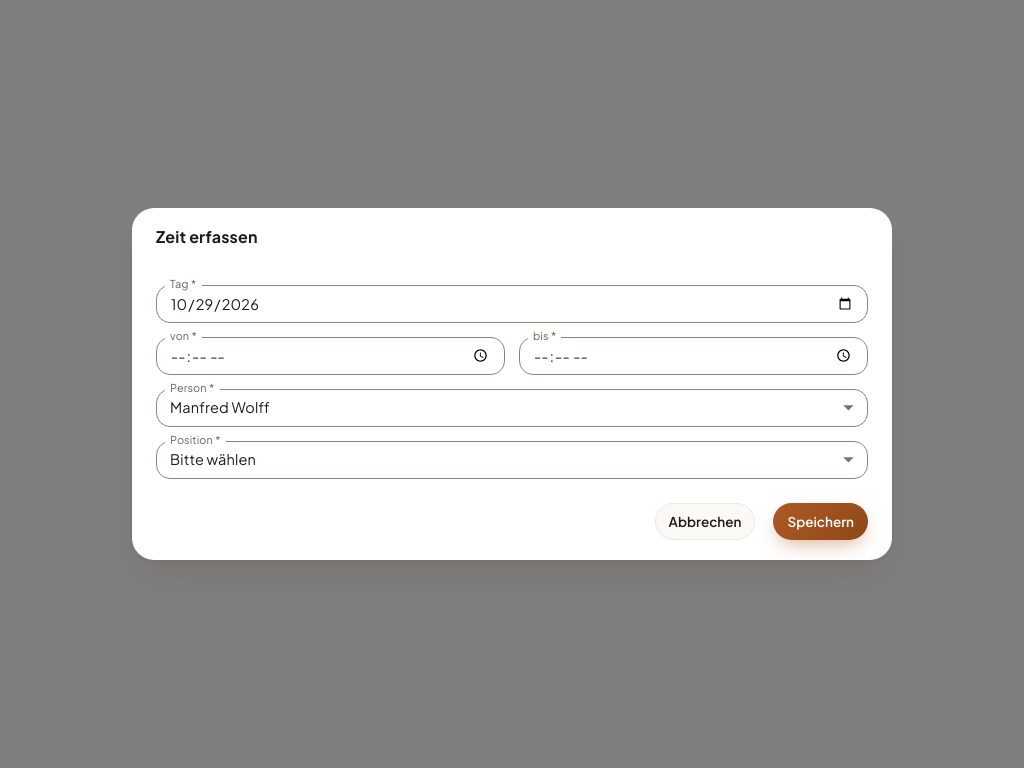
Test case: ZeiteintragMaske — die Dauer (Kriterium 2) › zeigt die Dauer erst, wenn beide Uhrzeiten gueltig sind
The image size is (1024, 768).
Step 1. Type "09:00" into the time field labelled "von *" → (330, 356), box [156, 337, 505, 375]
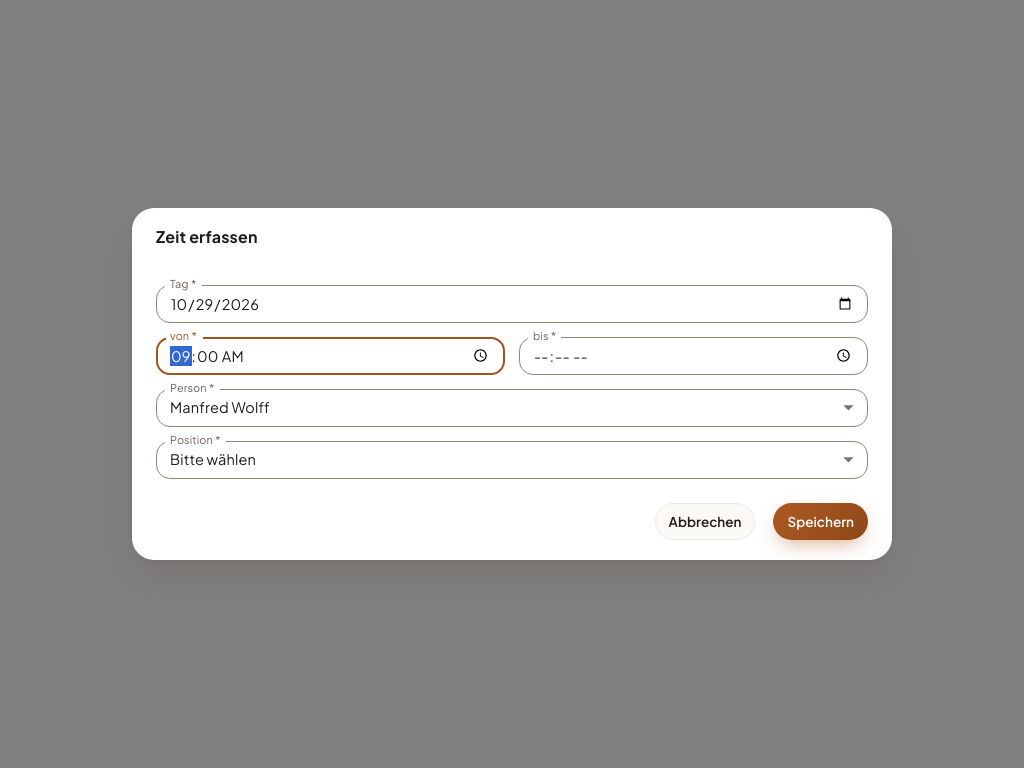
Step 2. Type "10:45" into the time field labelled "bis *" → (694, 356), box [519, 337, 868, 375]
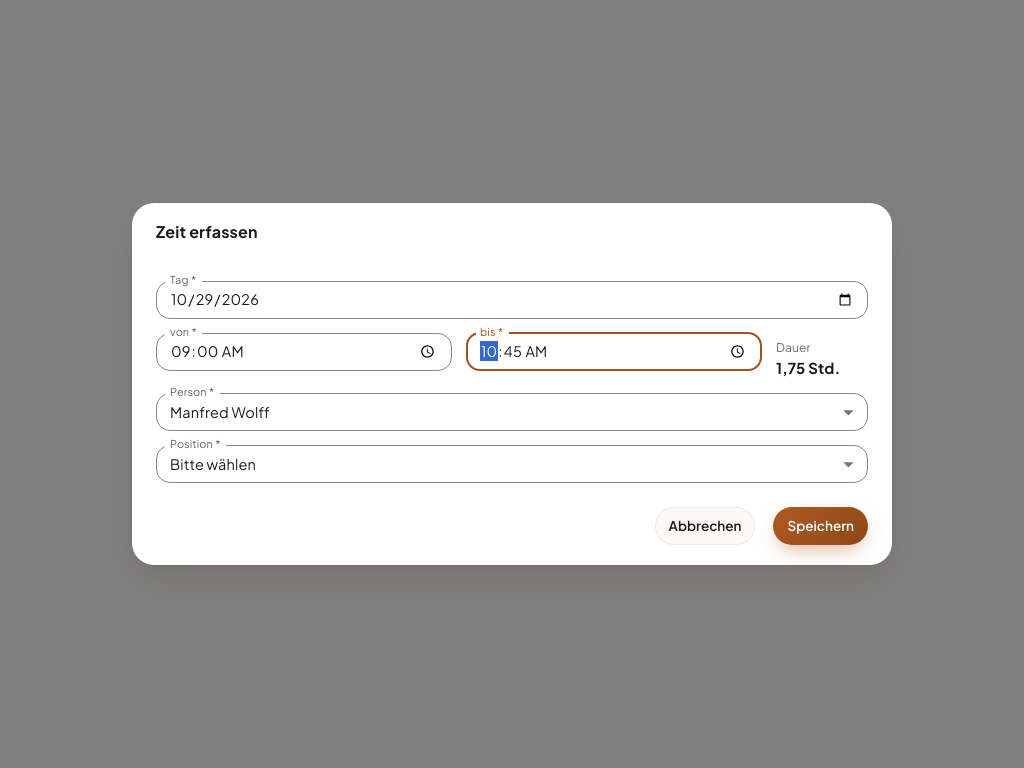
Expected: the text with test id "zeit-dauer" reads "1,75 Std.", [776, 358, 840, 377]
